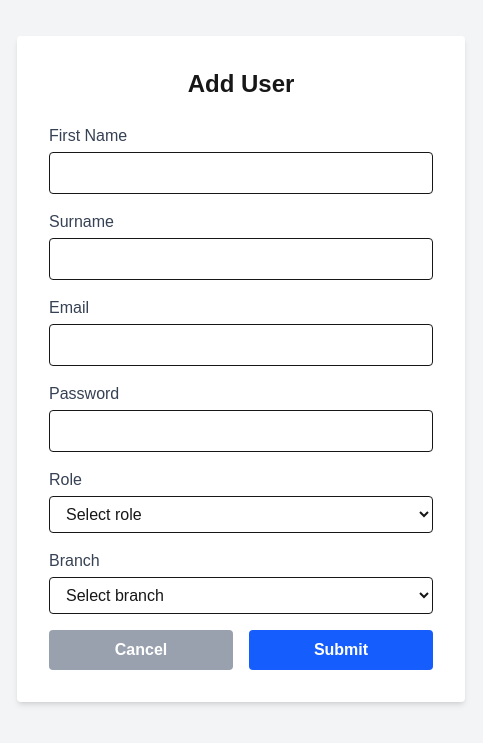
Scenario: AddUserPage › shows validation error when required fields are missing
Click the button "Submit" at (341, 650), box [249,630,433,670]
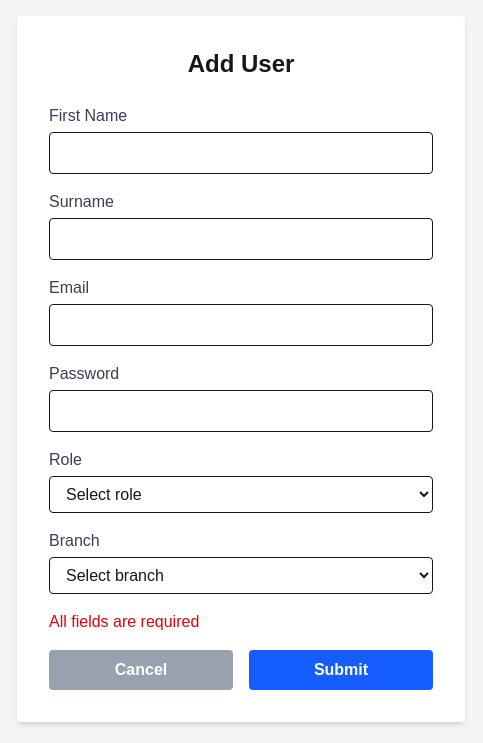
Expected: the text "All fields are required" is shown, [49,613,199,630]
